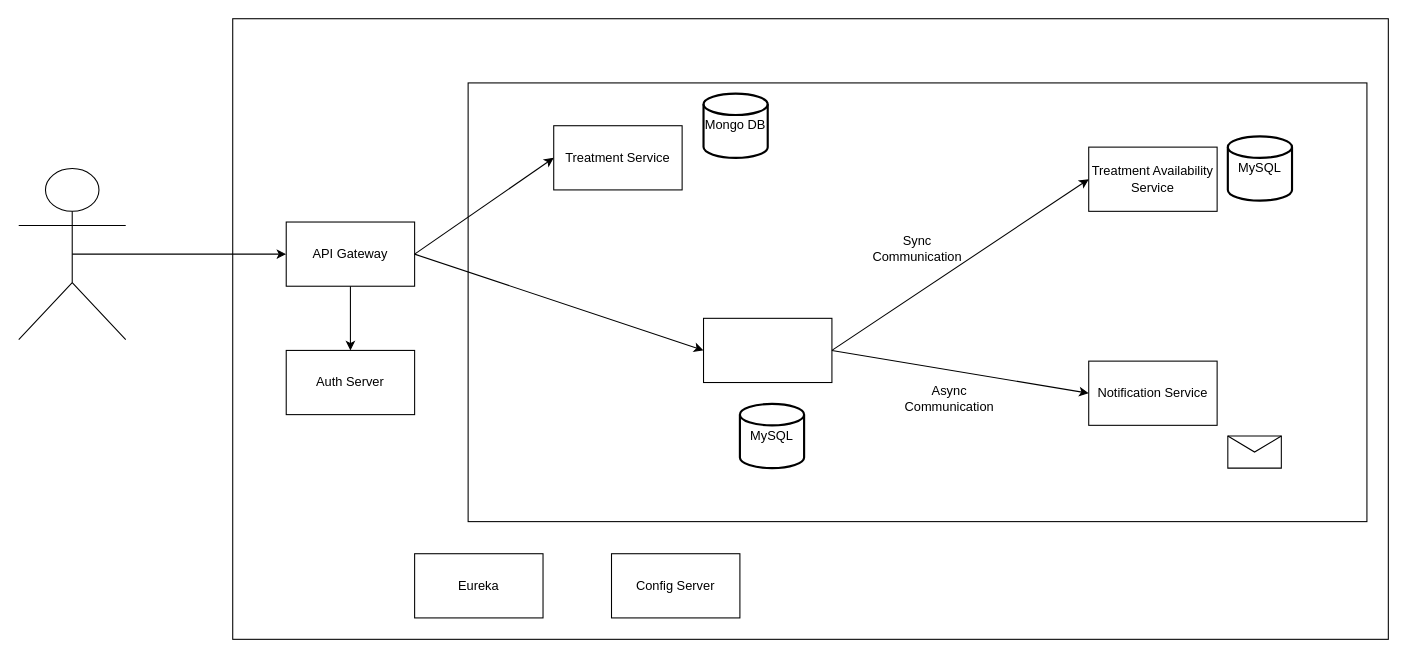
Image size: 1407x658. Some labels were removed from this diagram. Each missing label, with the box of its shape:
Client: (18, 167, 126, 340)
Reservation Service: (702, 317, 832, 383)
